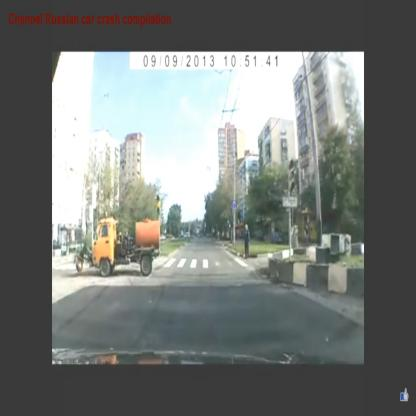crosswalk: (166, 257, 250, 270)
